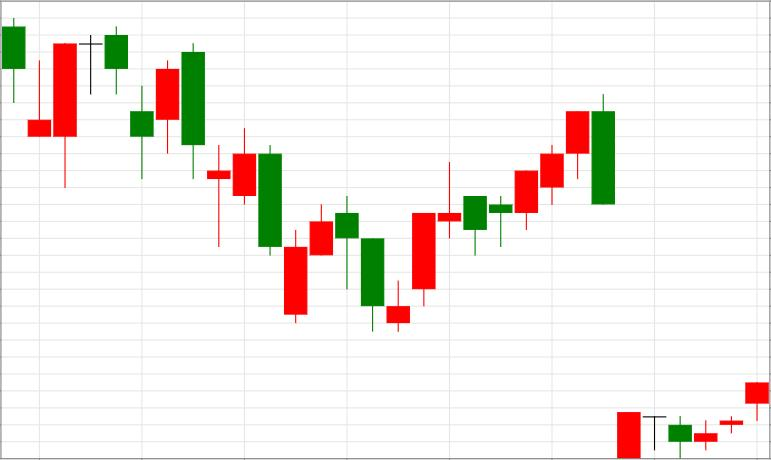bearish_engulfing_fall: (464, 93, 616, 256)
